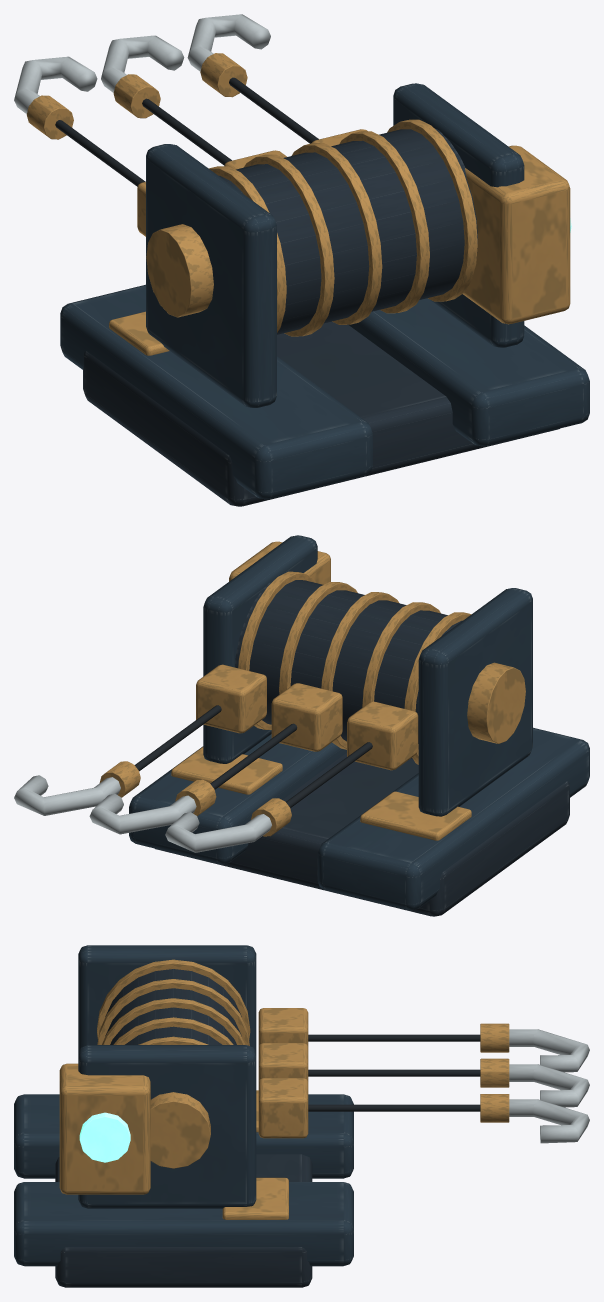
File: restraint_winch.glb
3 renders of one model, top to bottom at view 1: azimuth 30°, elevation 25°; view 2: azimuth 150°, elevation 25°; view 3: azimuth 270°, elevation 25°, orthographic. The views are drawn at different scales.
Parts seen in each view (by area): view 1: restraint_winch__spool, restraint_winch__foot_neg1, restraint_winch__cheek_neg1, restraint_winch__ground_foundation, restraint_winch__foot_1, restraint_winch__gearbox, restraint_winch__cheek_1, restraint_winch__axle_neg1, restraint_winch__reel_groove_1, restraint_winch__reel_groove_3, restraint_winch__reel_groove_4, restraint_winch__reel_groove_2 (+11 smaller); view 2: restraint_winch__cheek_neg1, restraint_winch__foot_neg1, restraint_winch__ground_foundation, restraint_winch__spool, restraint_winch__foot_1, restraint_winch__cheek_1, restraint_winch__fairlead_1, restraint_winch__fairlead_0, restraint_winch__fairlead_2, restraint_winch__axle_neg1, restraint_winch__foot_trim_neg1, restraint_winch__foot_trim_1 (+15 smaller); view 3: restraint_winch__foot_1, restraint_winch__cheek_1, restraint_winch__ground_foundation, restraint_winch__gearbox, restraint_winch__foot_neg1, restraint_winch__cheek_neg1, restraint_winch__spool, restraint_winch__axle_1, restraint_winch__fairlead_2, restraint_winch__hook_2, restraint_winch__hook_0, restraint_winch__hook_1 (+14 smaller).
Boxes of the visible parts, left/top/right/bottom form: restraint_winch__spool: left=219, top=128, right=478, bottom=334; restraint_winch__foot_neg1: left=60, top=284, right=372, bottom=499; restraint_winch__cheek_neg1: left=146, top=144, right=276, bottom=407; restraint_winch__ground_foundation: left=83, top=321, right=559, bottom=506; restraint_winch__foot_1: left=348, top=298, right=589, bottom=446; restraint_winch__gearbox: left=463, top=145, right=570, bottom=324; restraint_winch__cheek_1: left=393, top=83, right=524, bottom=347; restraint_winch__axle_neg1: left=146, top=224, right=213, bottom=317; restraint_winch__reel_groove_1: left=244, top=154, right=334, bottom=336; restraint_winch__reel_groove_3: left=339, top=131, right=429, bottom=313; restraint_winch__reel_groove_4: left=387, top=119, right=477, bottom=301; restraint_winch__reel_groove_2: left=291, top=143, right=382, bottom=324; restraint_winch__cheek_neg1: left=418, top=588, right=532, bottom=816; restraint_winch__foot_neg1: left=317, top=727, right=589, bottom=910; restraint_winch__ground_foundation: left=155, top=753, right=569, bottom=916; restraint_winch__spool: left=235, top=579, right=462, bottom=759; restraint_winch__foot_1: left=129, top=734, right=346, bottom=864; restraint_winch__cheek_1: left=203, top=535, right=317, bottom=763; restraint_winch__fairlead_1: left=347, top=701, right=418, bottom=770; restraint_winch__fairlead_0: left=271, top=683, right=342, bottom=751; restraint_winch__fairlead_2: left=196, top=664, right=266, bottom=733; restraint_winch__axle_neg1: left=467, top=662, right=525, bottom=743; restraint_winch__foot_trim_neg1: left=360, top=791, right=471, bottom=840; restraint_winch__foot_trim_1: left=171, top=747, right=282, bottom=794; restraint_winch__foot_1: left=14, top=1182, right=353, bottom=1266; restraint_winch__cheek_1: left=78, top=1045, right=256, bottom=1208; restraint_winch__ground_foundation: left=55, top=1154, right=312, bottom=1287; restraint_winch__gearbox: left=59, top=1063, right=150, bottom=1194; restraint_winch__foot_neg1: left=14, top=1094, right=353, bottom=1178; restraint_winch__cheek_neg1: left=78, top=945, right=256, bottom=1053; restraint_winch__spool: left=105, top=969, right=241, bottom=1044; restraint_winch__axle_1: left=150, top=1092, right=210, bottom=1168; restraint_winch__fairlead_2: left=258, top=1078, right=308, bottom=1138; restraint_winch__hook_2: left=509, top=1099, right=589, bottom=1143; restraint_winch__hook_0: left=509, top=1064, right=589, bottom=1107; restraint_winch__hook_1: left=509, top=1029, right=589, bottom=1072.
Bounding box in the file's own units: 0.813 × 0.6 × 1.39.
2 materials, 2 textured.
